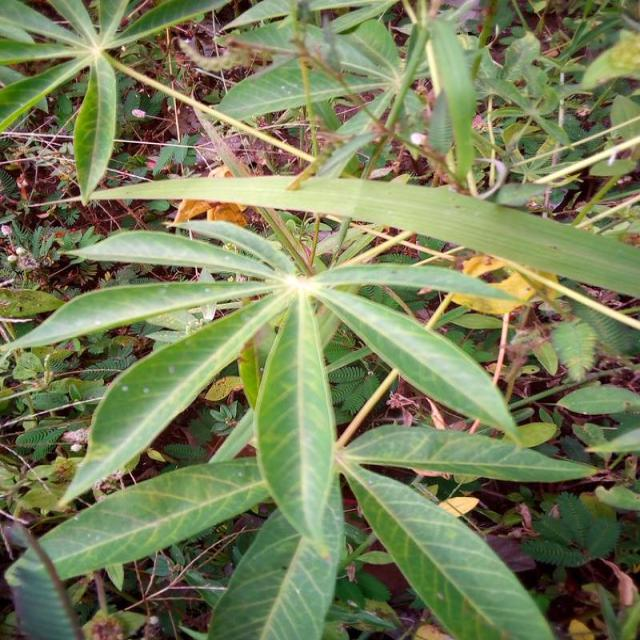cassava leaf: (253, 288, 337, 547)
